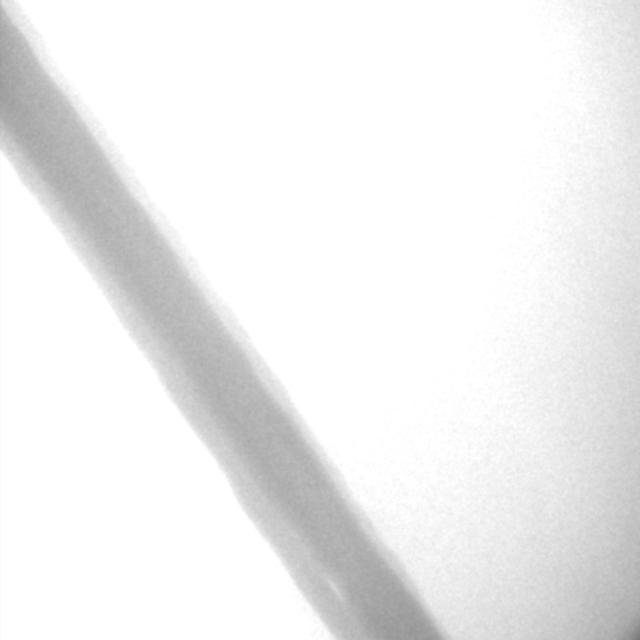air-hole: (331, 583, 341, 597)
broken-arc: (377, 540, 447, 640)
